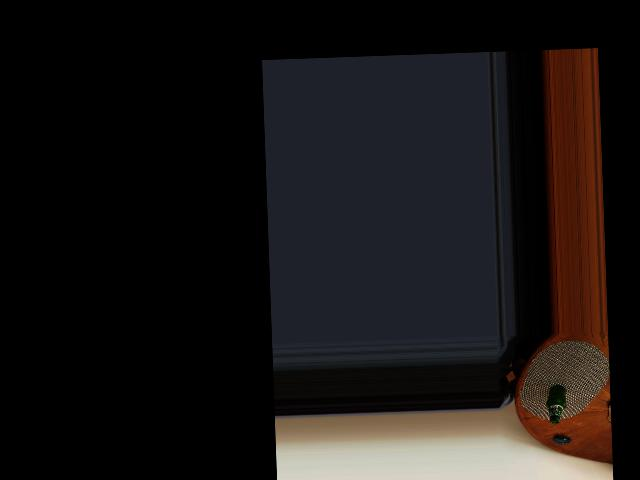beer: (545, 384, 568, 424)
